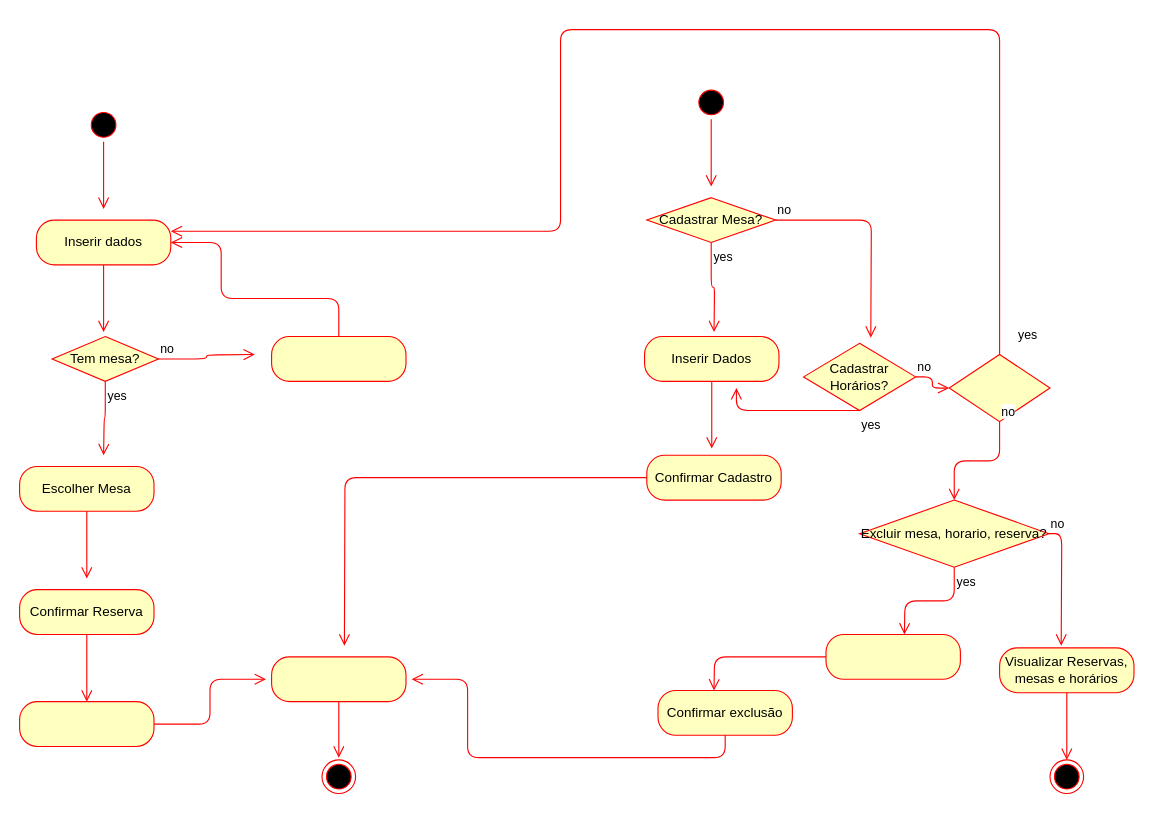
Image size: 1154x813. Some labels were removed from this diagram. Each missing label, with the centre of its shape:
"Armazenar Reserva" goes at (86,723).
"Atualizar lista de Mesas disponíveis" goes at (338,679).
"Cadastrar Reserva?" goes at (999,387).
"Informar indisponibilidade" goes at (338,358).
"Selecionar o que deseja excluir" goes at (892,656).
